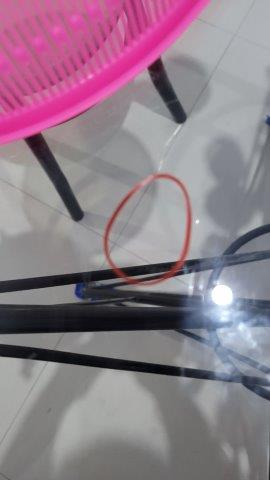karet: (105, 173, 190, 284)
